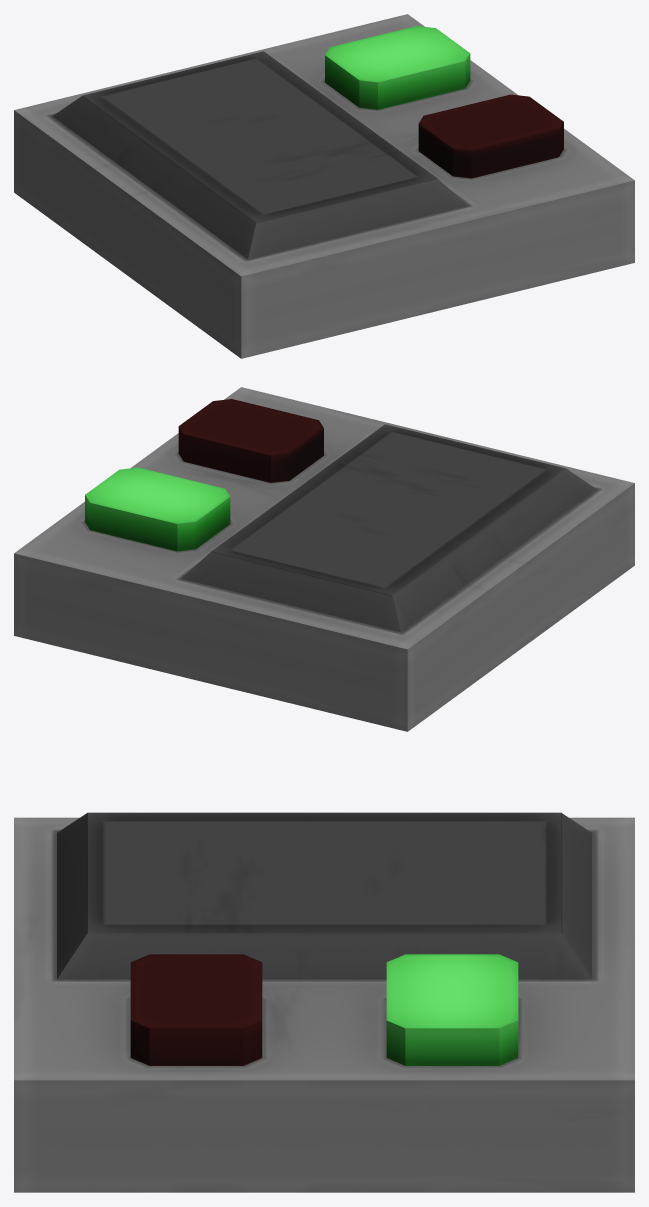
File: obj_interactive_switch_on.fbx
The picture shows the model from 3 angles, top to bottom: view 1: azimuth 30°, elevation 25°; view 2: azimuth 150°, elevation 25°; view 3: azimuth 270°, elevation 25°; orthographic projection. The views are drawn at different scales.
Parts seen in each view (by area): view 1: obj_interactive_switch_on_lod0; view 2: obj_interactive_switch_on_lod0; view 3: obj_interactive_switch_on_lod0.
Part boxes in pixels (x1=…): obj_interactive_switch_on_lod0: x1=14, y1=14, x2=634, y2=358; obj_interactive_switch_on_lod0: x1=14, y1=387, x2=634, y2=731; obj_interactive_switch_on_lod0: x1=14, y1=812, x2=634, y2=1192.
Size of the model in its own units: 1 by 0.3677 by 1.
1 material, 1 textured.
